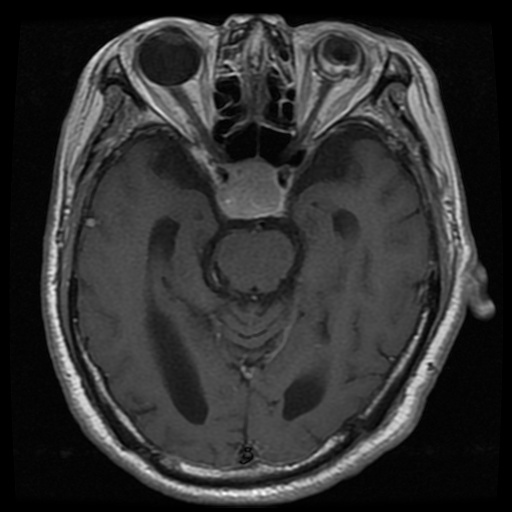pituitary: (223, 160, 284, 218)
